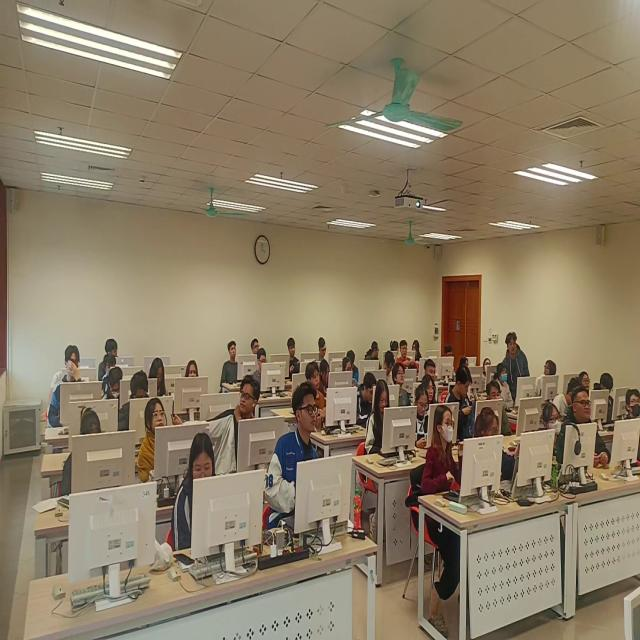raise_hand: (50, 345, 87, 432)
raise_head: (140, 397, 184, 487), (568, 387, 606, 474), (537, 402, 570, 484), (306, 359, 332, 431), (221, 341, 243, 391), (391, 361, 412, 410), (621, 387, 640, 438), (396, 340, 415, 377), (182, 358, 202, 392), (424, 373, 439, 416), (422, 356, 439, 383), (579, 369, 593, 400), (250, 337, 262, 363), (483, 357, 493, 379)
stand: (503, 329, 532, 403)
using_computer: (169, 431, 221, 552), (58, 406, 108, 499), (473, 404, 513, 494), (440, 362, 477, 436), (364, 380, 395, 468), (481, 379, 515, 437), (550, 377, 583, 431), (46, 347, 69, 412), (595, 373, 624, 420), (355, 371, 379, 427), (101, 366, 125, 411), (147, 357, 169, 401), (286, 336, 305, 381), (495, 364, 513, 404), (100, 353, 118, 382), (347, 351, 362, 385), (320, 359, 334, 391), (318, 336, 333, 364), (443, 341, 456, 369), (343, 358, 355, 387), (460, 355, 472, 375)
using_phone: (411, 385, 432, 454)
